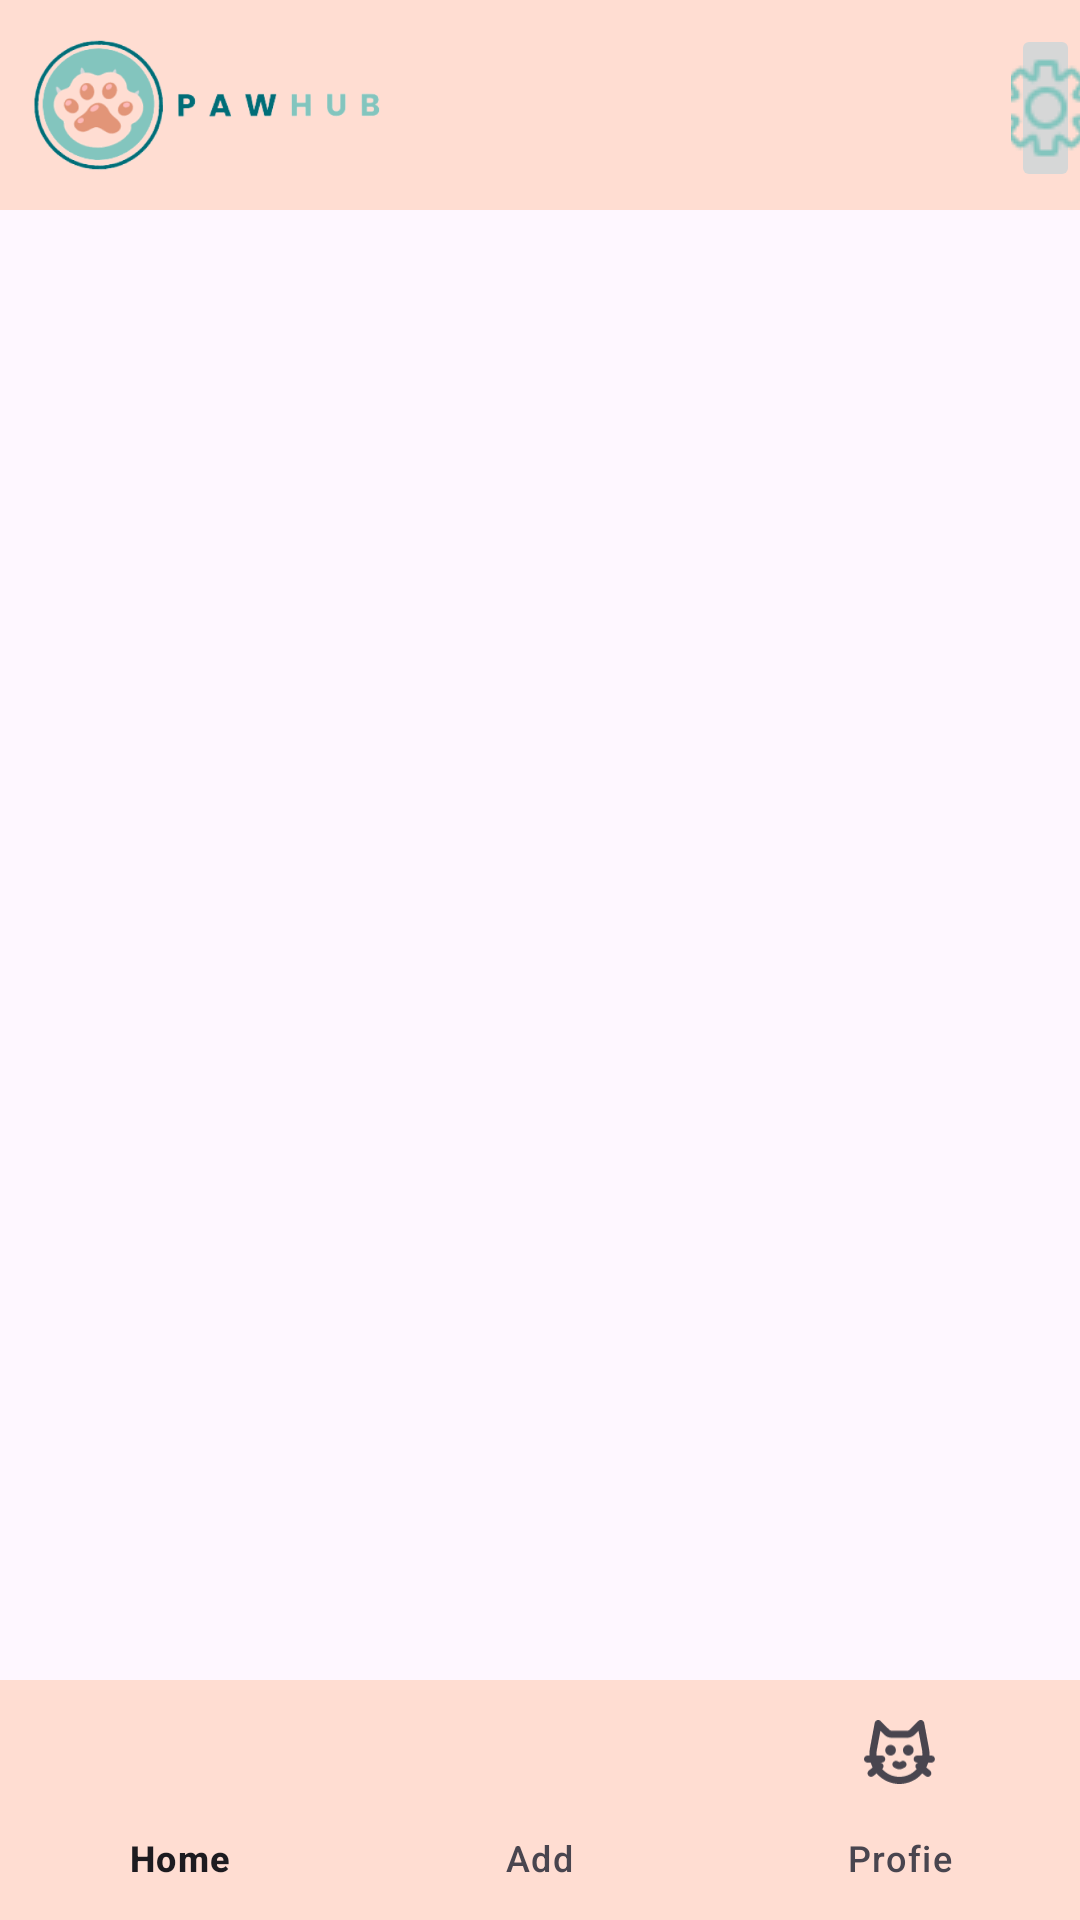

Screen size 1080*1920. Icon name, then its box in pixels as (x1, y1, x2, y2):
setting line: (1011, 42, 1080, 174)
